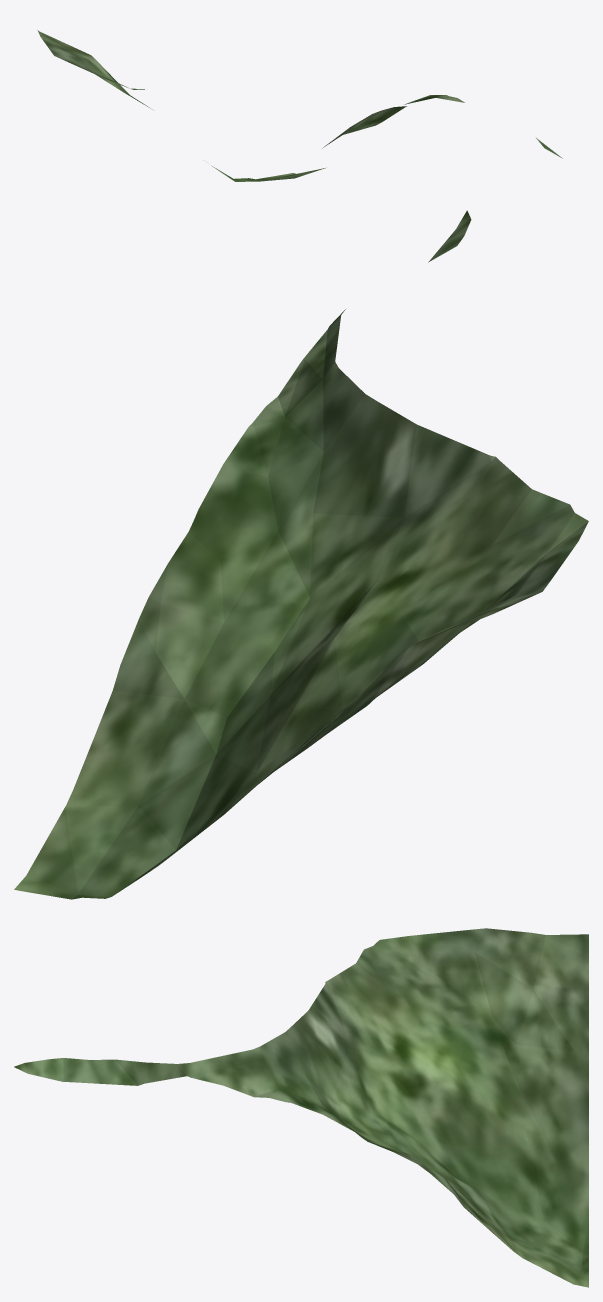
3 views of the same model, one above another, from view 1: azimuth 30°, elevation 25°; view 2: azimuth 150°, elevation 25°; view 3: azimuth 270°, elevation 25° (orthographic). The views are drawn at different scales.
Size of the model in its own units: 1.58 by 1.17 by 2.76.
Materials: 1 (1 with a texture image).
